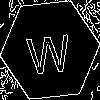W: (25, 25, 72, 76)
